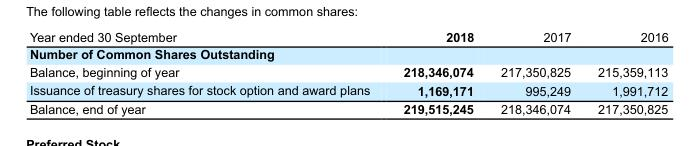table: (28, 29, 667, 115)
table column: (28, 29, 385, 115), (385, 29, 486, 115), (486, 29, 583, 115), (583, 29, 667, 115)
table column header: (28, 29, 667, 45)
table projected row header: (28, 45, 667, 62)
table row: (28, 80, 667, 99), (28, 62, 667, 80), (28, 45, 667, 62), (28, 29, 667, 45), (28, 99, 667, 115)
